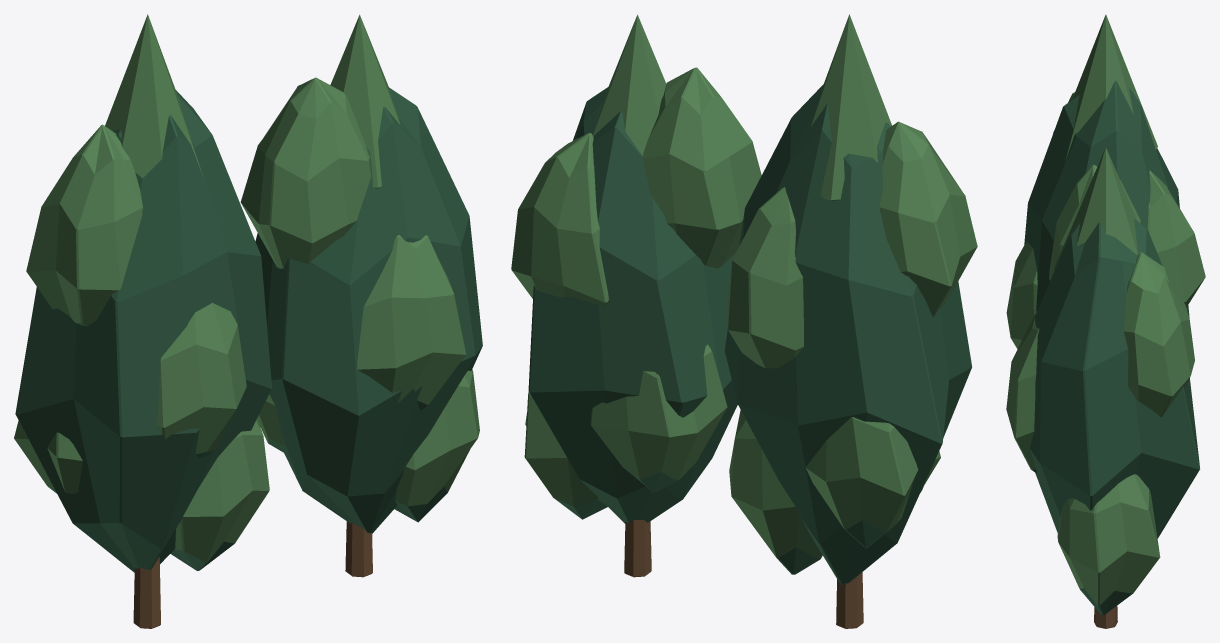
Rendered from b08_arborvitae_screen_pair.glb.
3 views of the same model, side by side, from view 1: azimuth 30°, elevation 25°; view 2: azimuth 150°, elevation 25°; view 3: azimuth 270°, elevation 25° (orthographic). The views are drawn at different scales.
Parts seen in each view (by area): view 1: b08_arborvitae_screen_pair; view 2: b08_arborvitae_screen_pair; view 3: b08_arborvitae_screen_pair.
Part boxes in pixels (x1,y1,x2,y2): b08_arborvitae_screen_pair: (14, 14, 482, 628); b08_arborvitae_screen_pair: (511, 14, 977, 628); b08_arborvitae_screen_pair: (1006, 14, 1205, 628).
Bounding box in the file's own units: 2.66 × 3.52 × 1.22.
